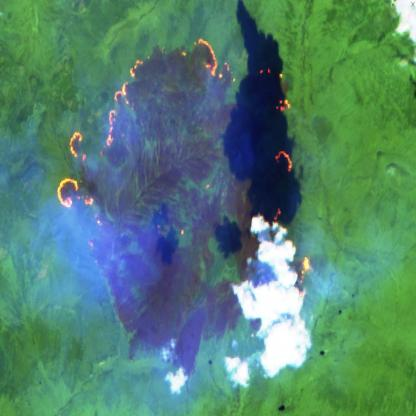fire: (54, 34, 315, 313)
